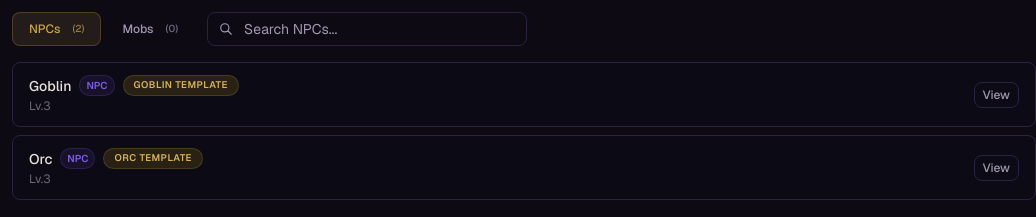
Scenario: NpcsMobsSection › filters by search
This screenshot has width=1036, height=217.
Check: the text "Goblin" is shown, box [29,76,71,96]
Check: the text "Orc" is shown, box [29,148,52,168]
Step 1. Type "Orc" into the field with placeholder "Search NPCs..." → (367,29), box [207,12,527,46]
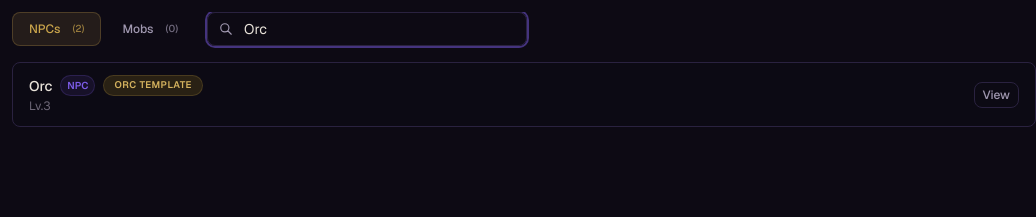
Check: the text "Orc" is shown, box [29,76,52,96]
Check: the text "Goblin" is gone
